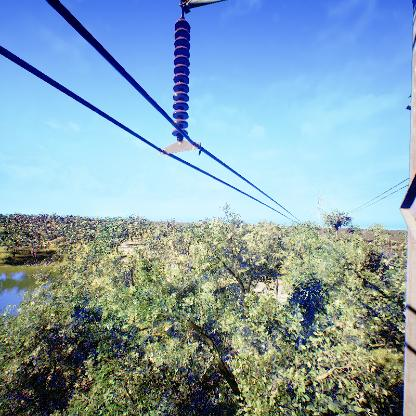insulator: (171, 18, 192, 144)
